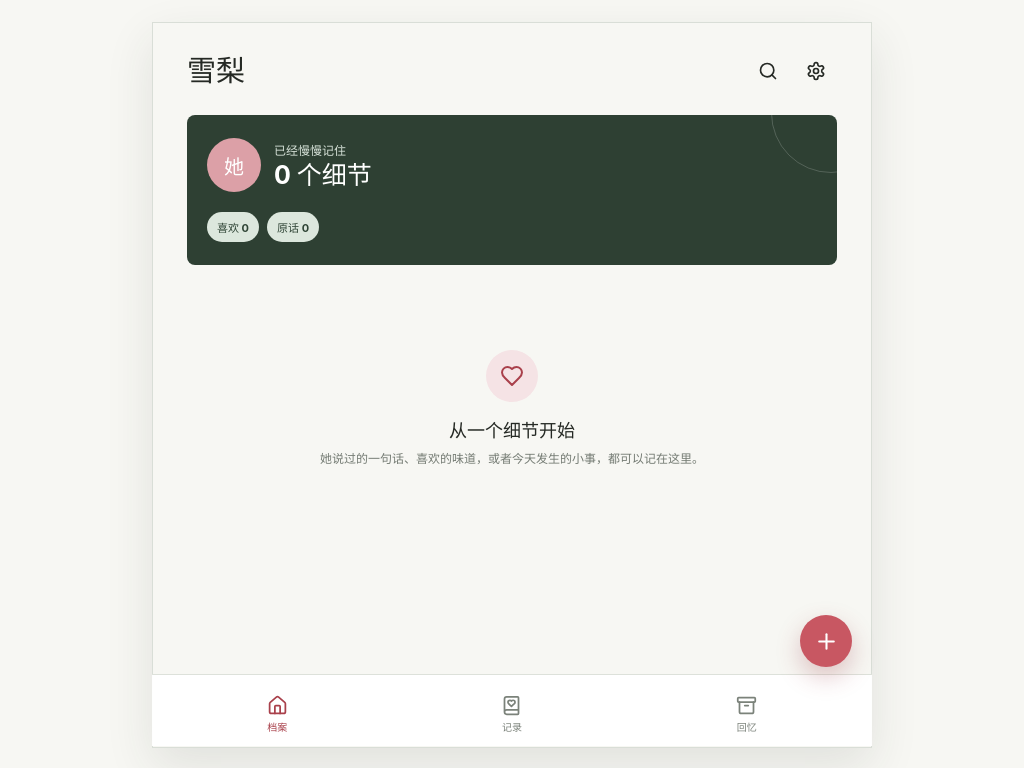
Test case: App › 文字记录必须先选择分类，并在保存后自动加入档案
This screenshot has width=1024, height=768.
Click the button "记录". click: click(512, 714)
box: [395,683,629,746]
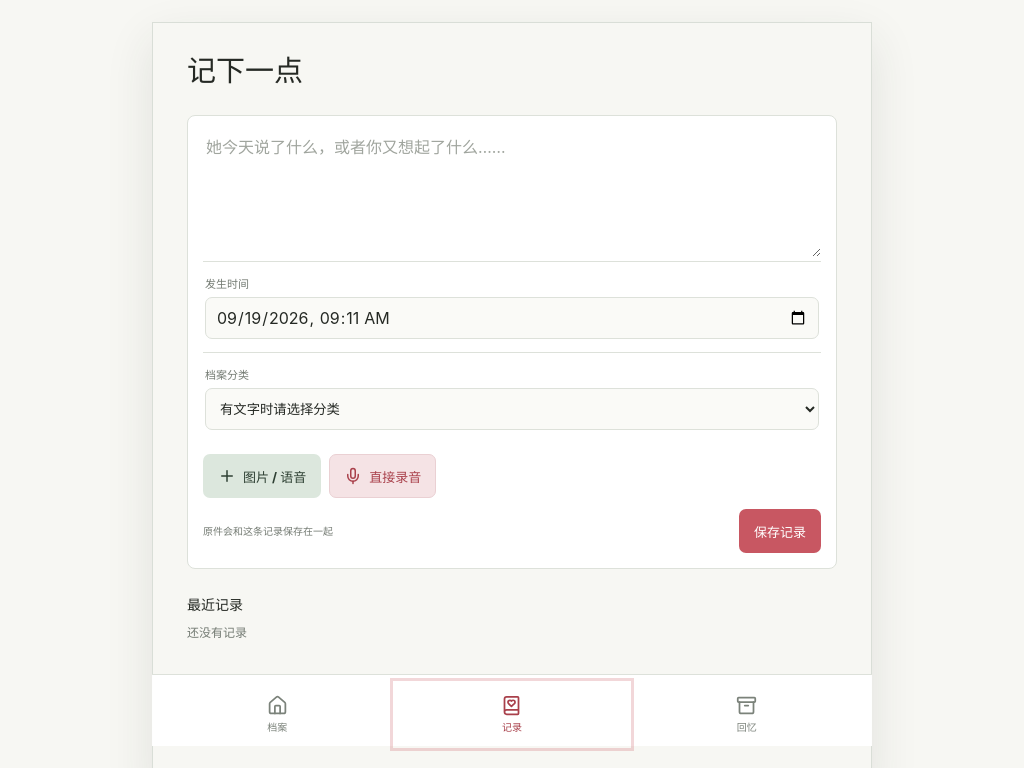
Type "她说下次想去看夜场电影。" into the text box named "记录内容". click: (512, 194)
box: [203,131,821,257]
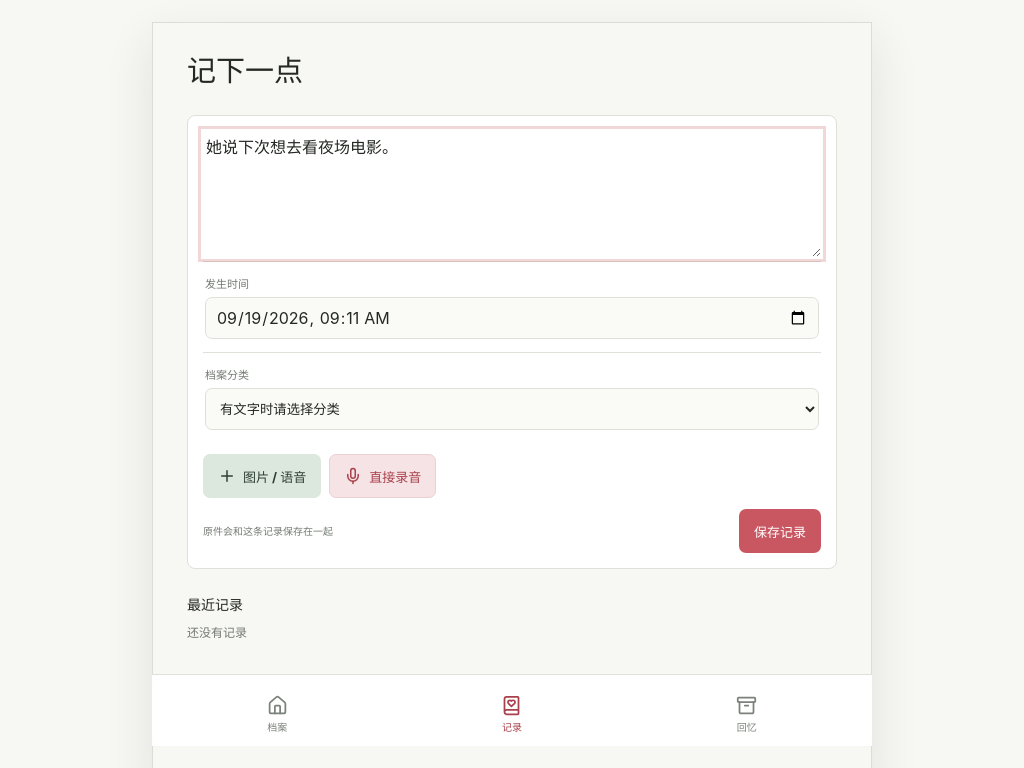
Click the button "保存记录". click: click(780, 531)
box: [739,509,821,553]
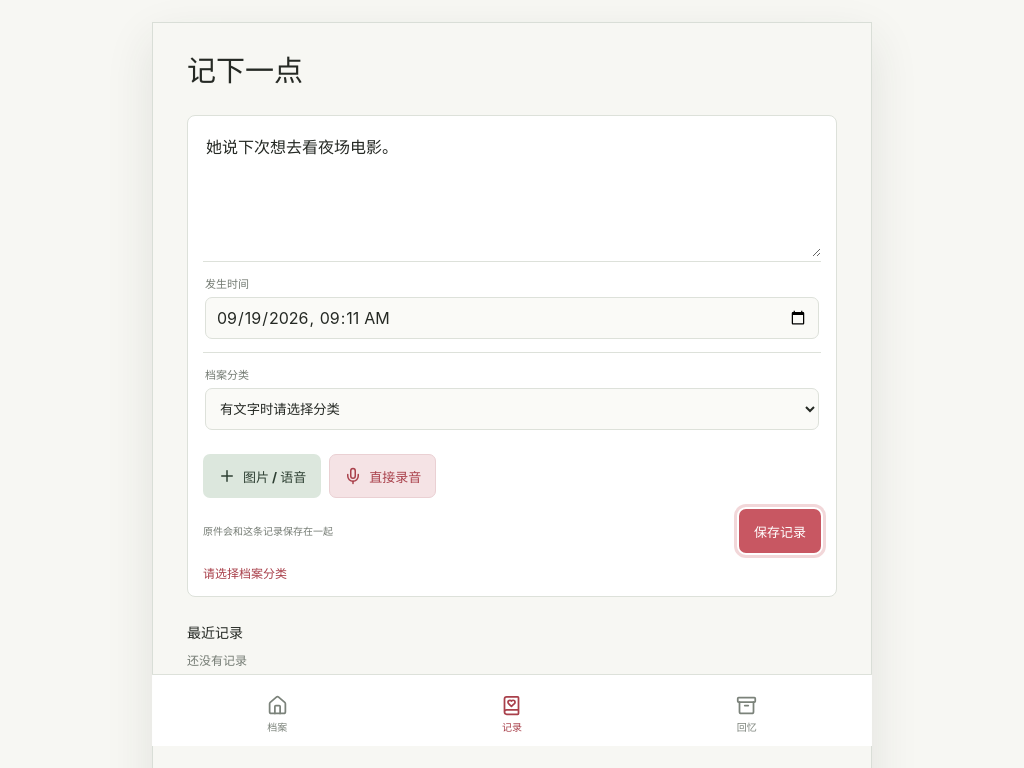
Result: the message reads "请选择档案分类" at [203,566,287,581]
Select "愿望" in the dropdown labelled "档案分类". click: (512, 409)
box: [205,388,819,430]
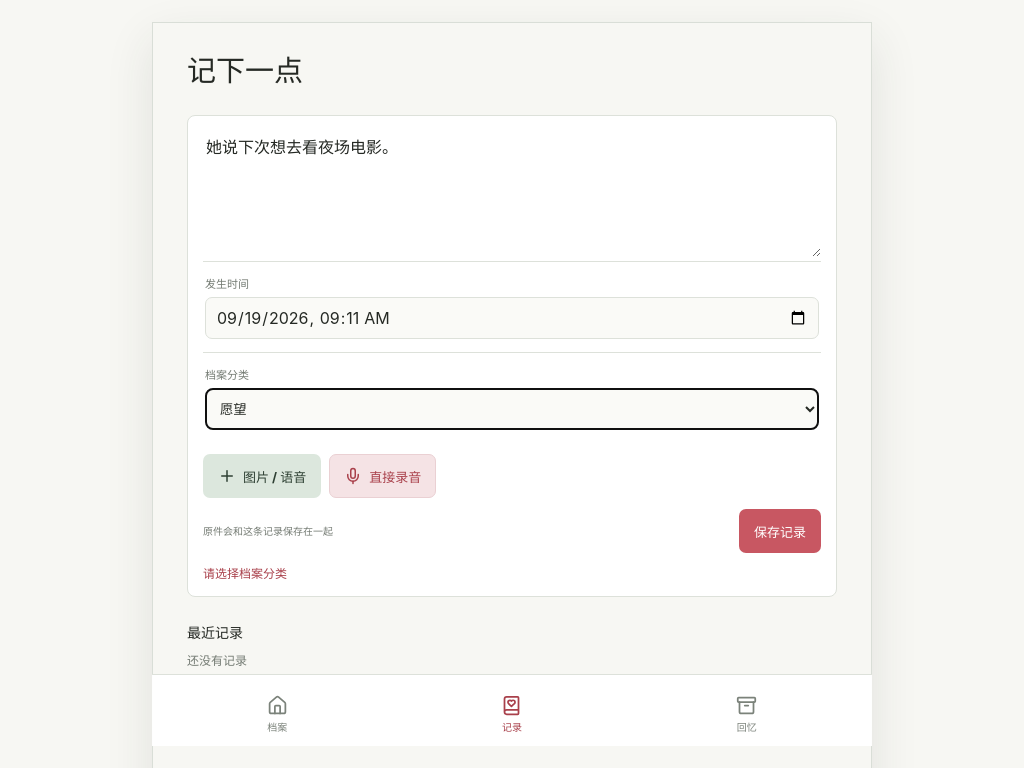
Click the button "保存记录". click: click(780, 531)
box: [739,509,821,553]
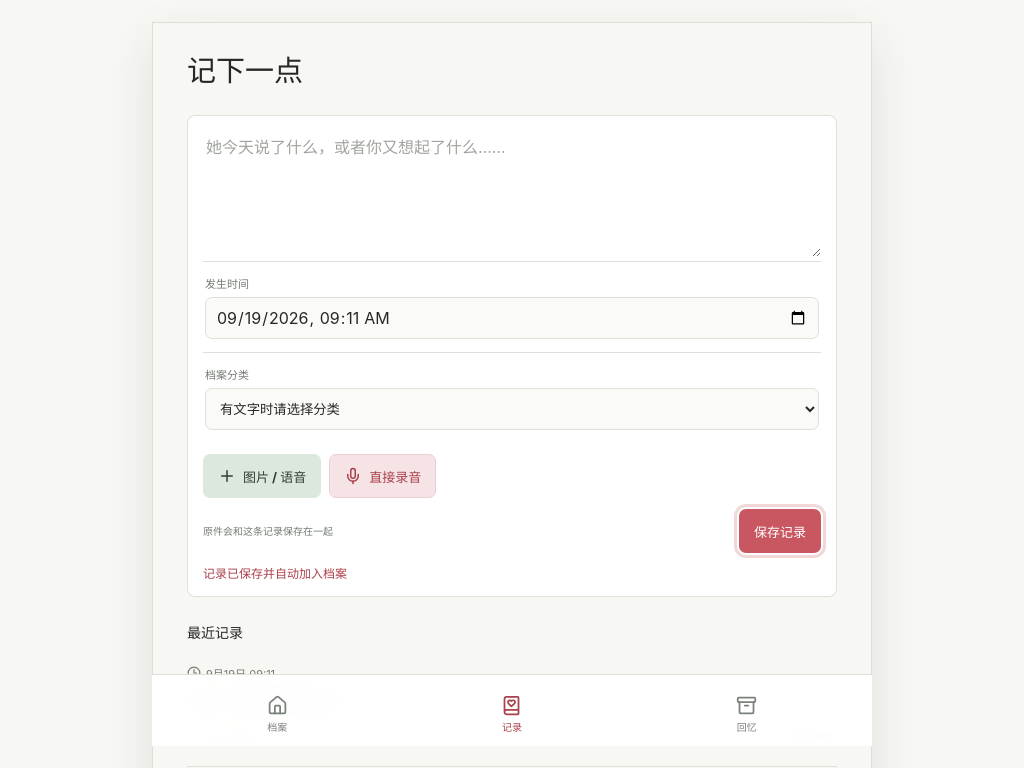
Expected: the text "她说下次想去看夜场电影。" is shown, [187,692,355,709]
Result: the text "记录已保存并自动加入档案" is shown at [203,566,347,581]
Click the button "档案". click: click(277, 714)
box: [160,683,395,746]
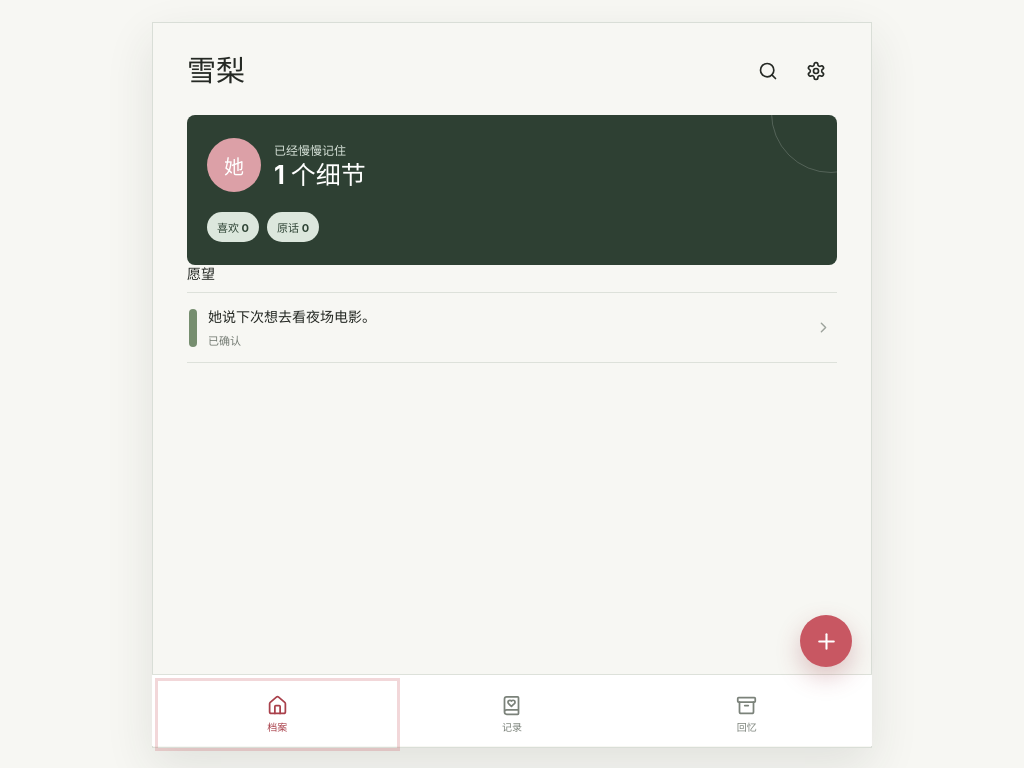
Result: the text "她说下次想去看夜场电影。" is shown at [208,308,376,325]
Result: the text "已确认" is shown once at [208,334,241,348]
